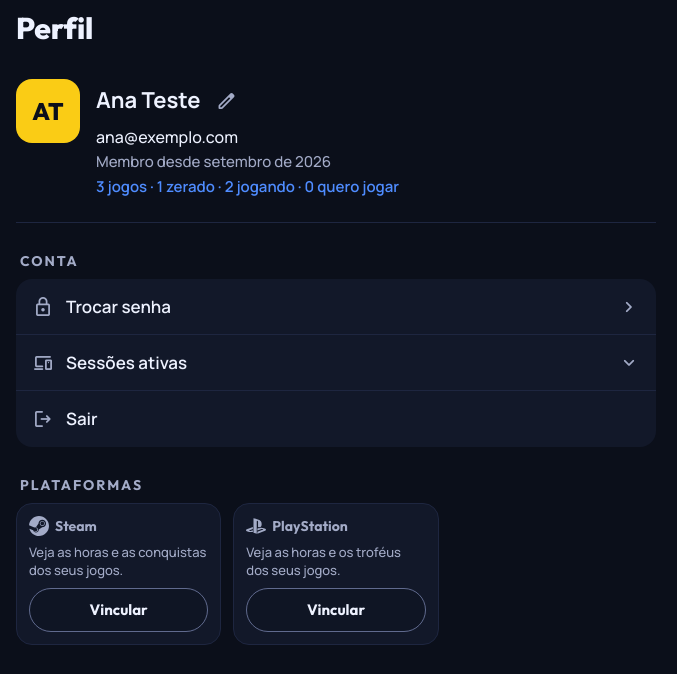
Test case: nome editável (CA-04) › salvar manda o nome aparado, troca o nome na tela e na sessão sem recarregar
This screenshot has width=677, height=674.
Click the button named "Editar nome".
click(226, 101)  # box [204,79,248,123]
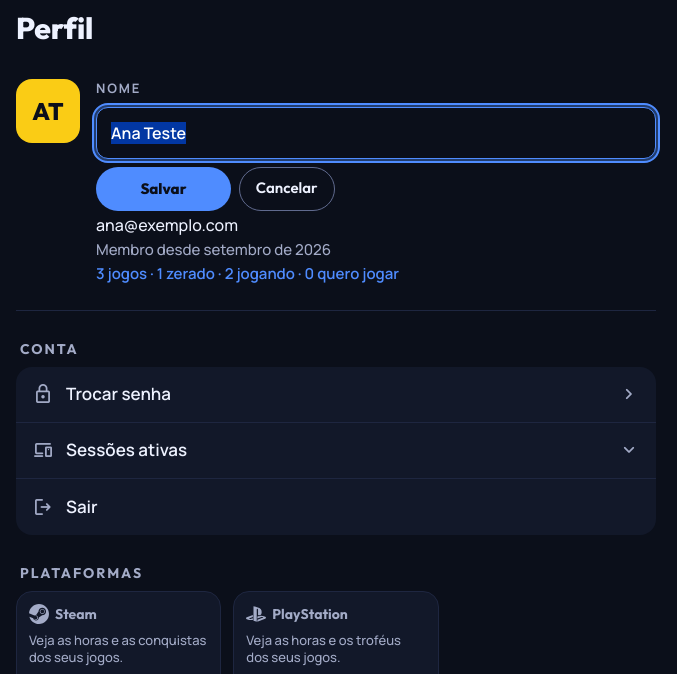
Replace the text in the field labelled "Nome" with "  Ana Souza " at x=376, y=132, box [96,106,656,158]
Then press Enter
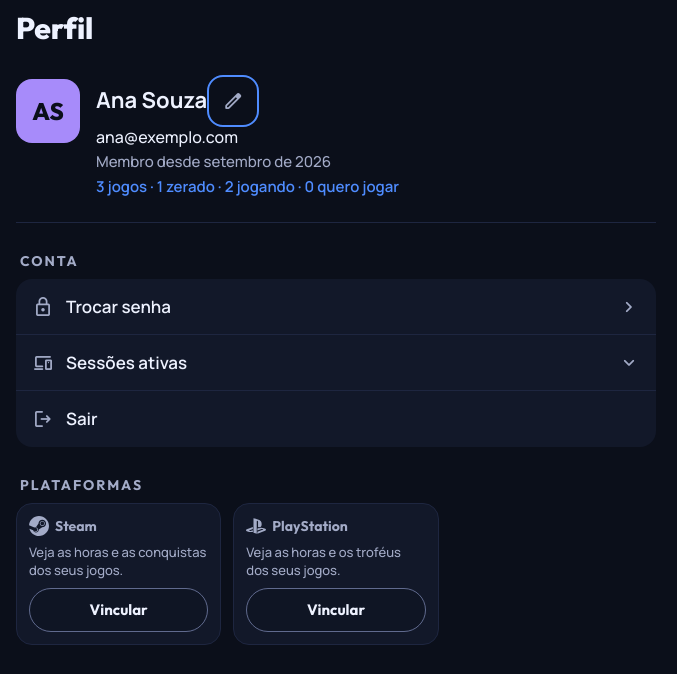
Now the heading "Ana Souza" is shown, box [96,87,207,115]
Now the text "AS" is shown, box [16,79,80,143]
